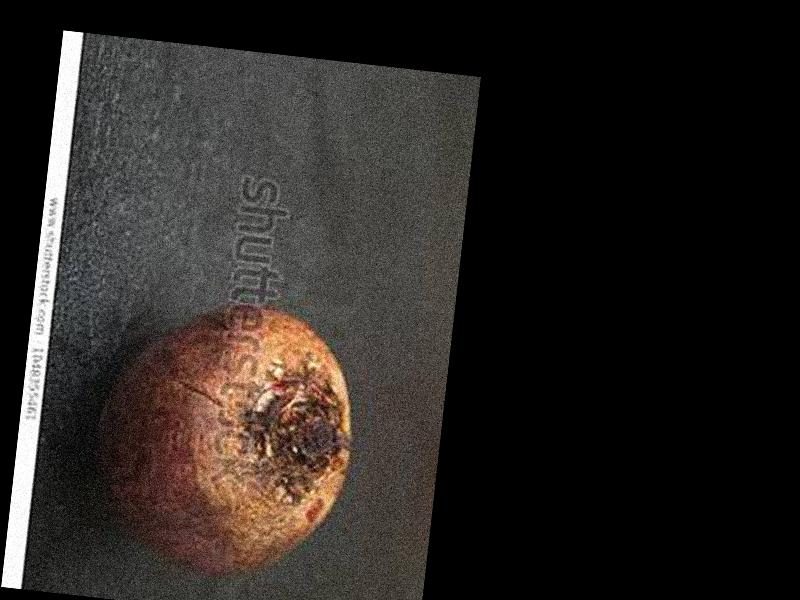Beet: (86, 293, 363, 592)
